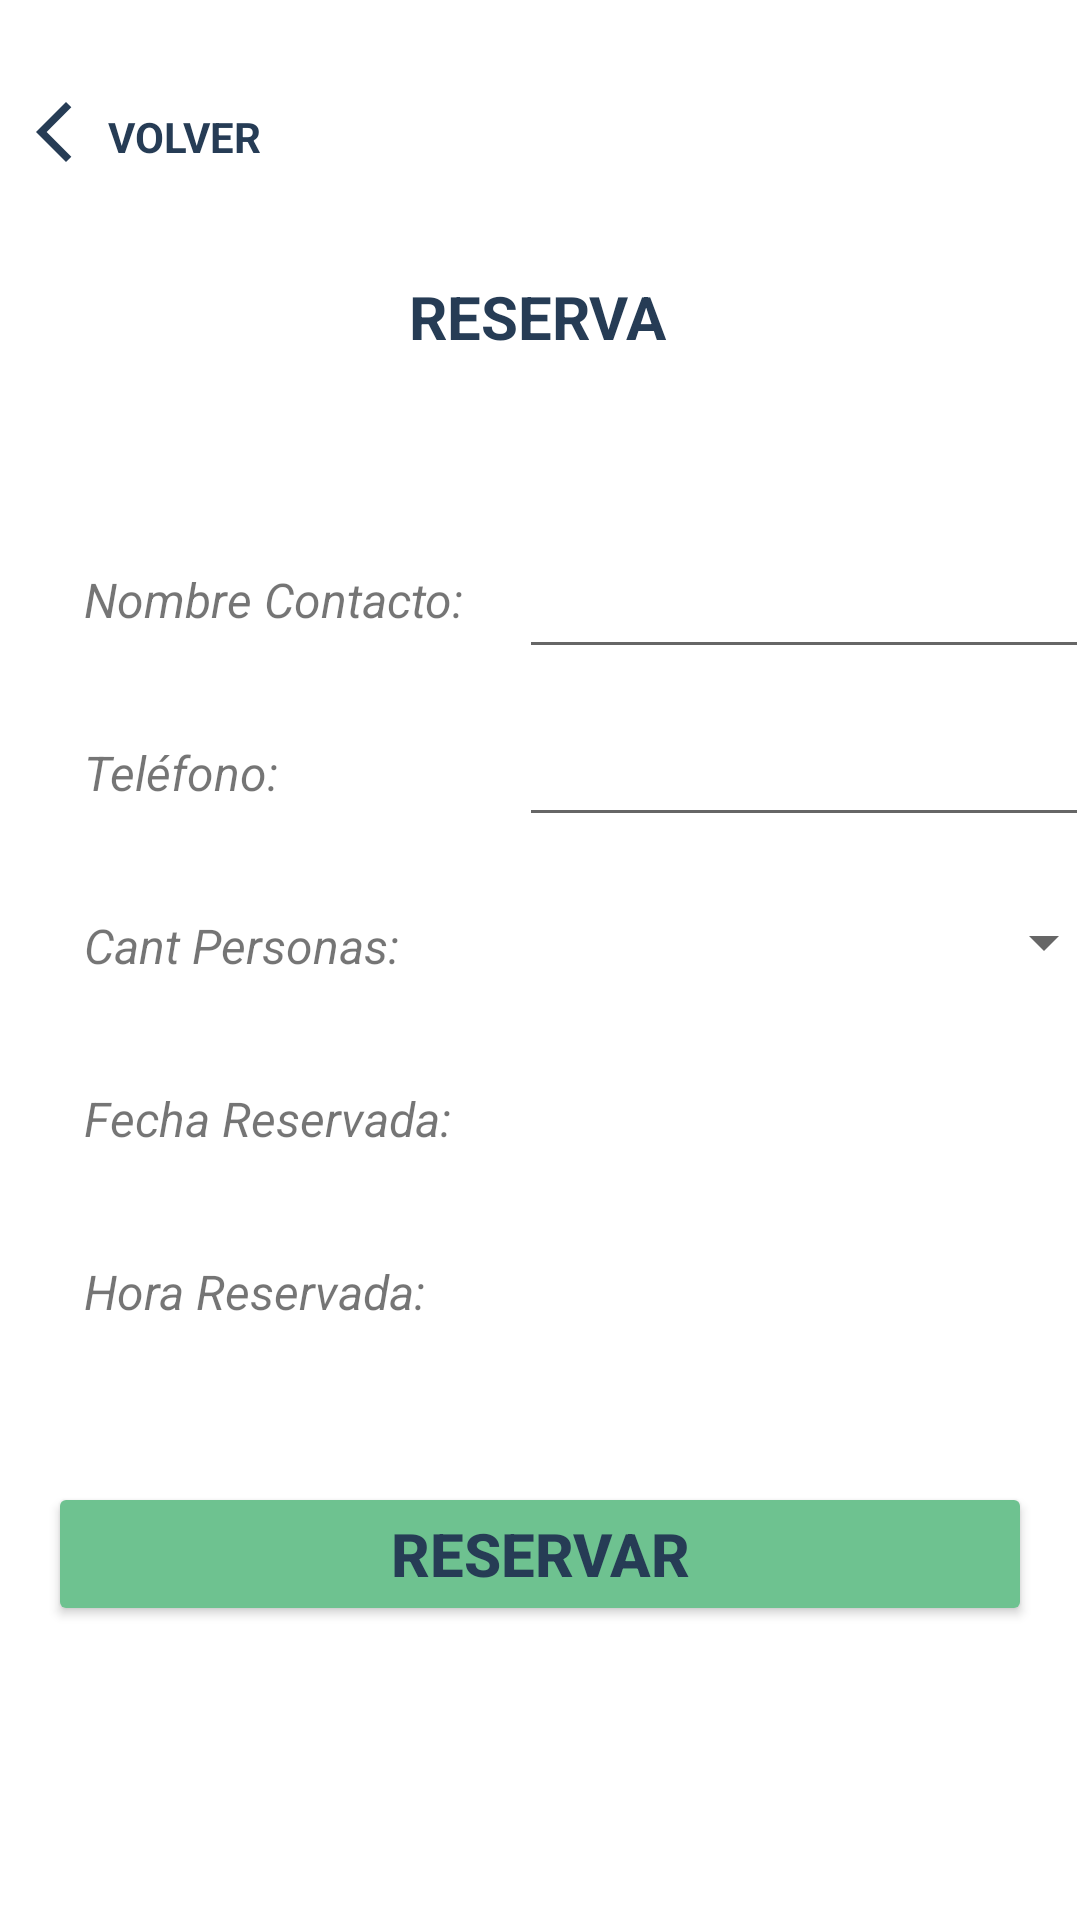

Locate icon controls on the screen. Image size 1080 × 1920, boxes as (x1, y1, x2, y2).
arrow back: (36, 102, 71, 162)
